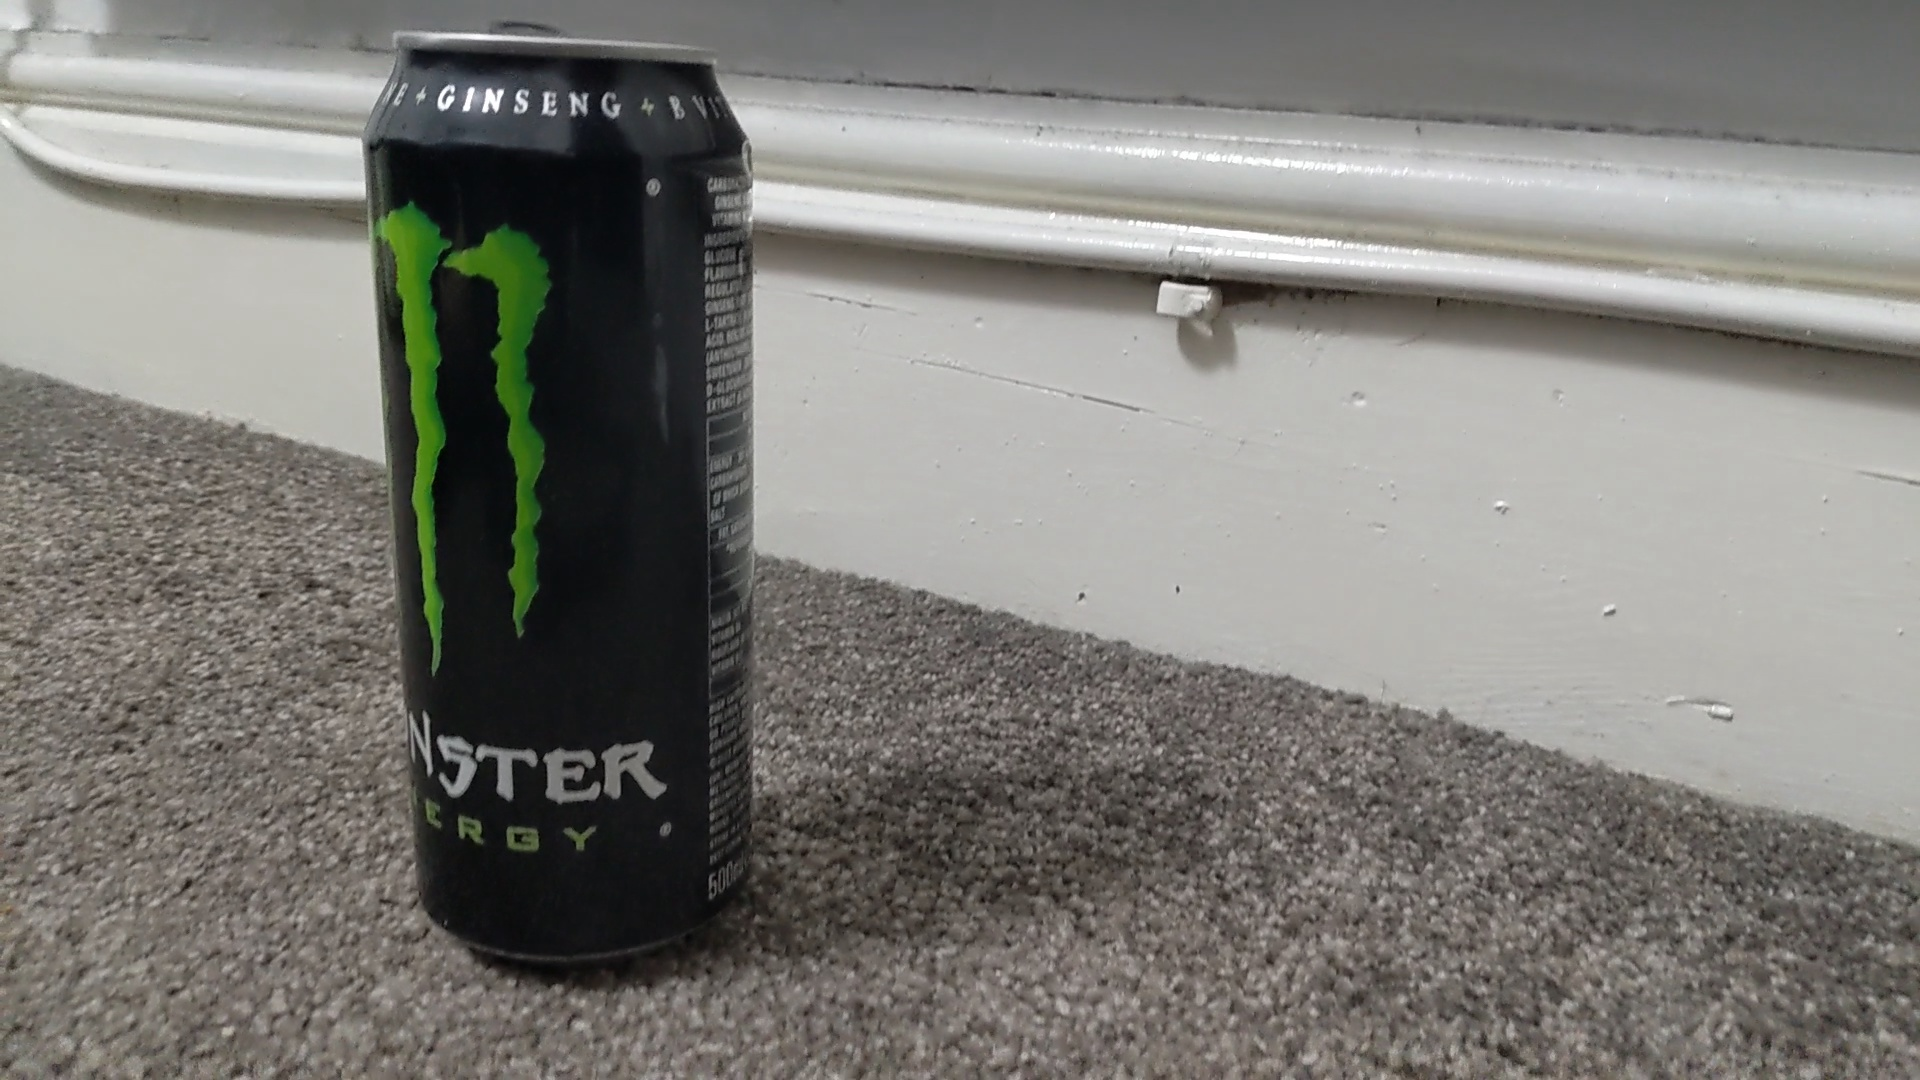monster-original: (364, 32, 753, 965)
